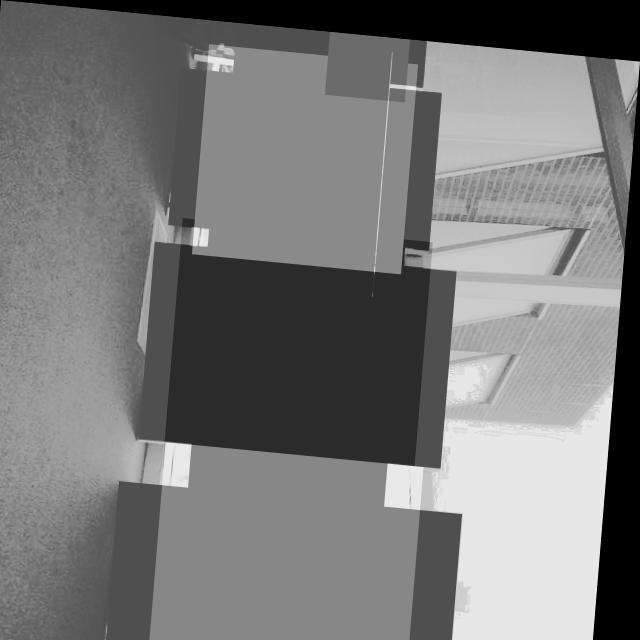qr_code: (169, 214, 435, 483), (158, 438, 430, 640), (195, 40, 417, 266), (325, 25, 409, 94)
